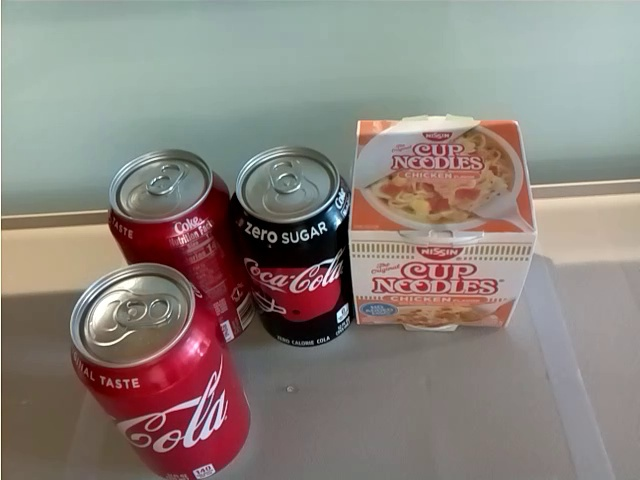cocacola: (66, 262, 251, 480), (107, 148, 250, 344)
cocacola-zero: (232, 143, 352, 350)
noodles: (342, 112, 537, 337)
